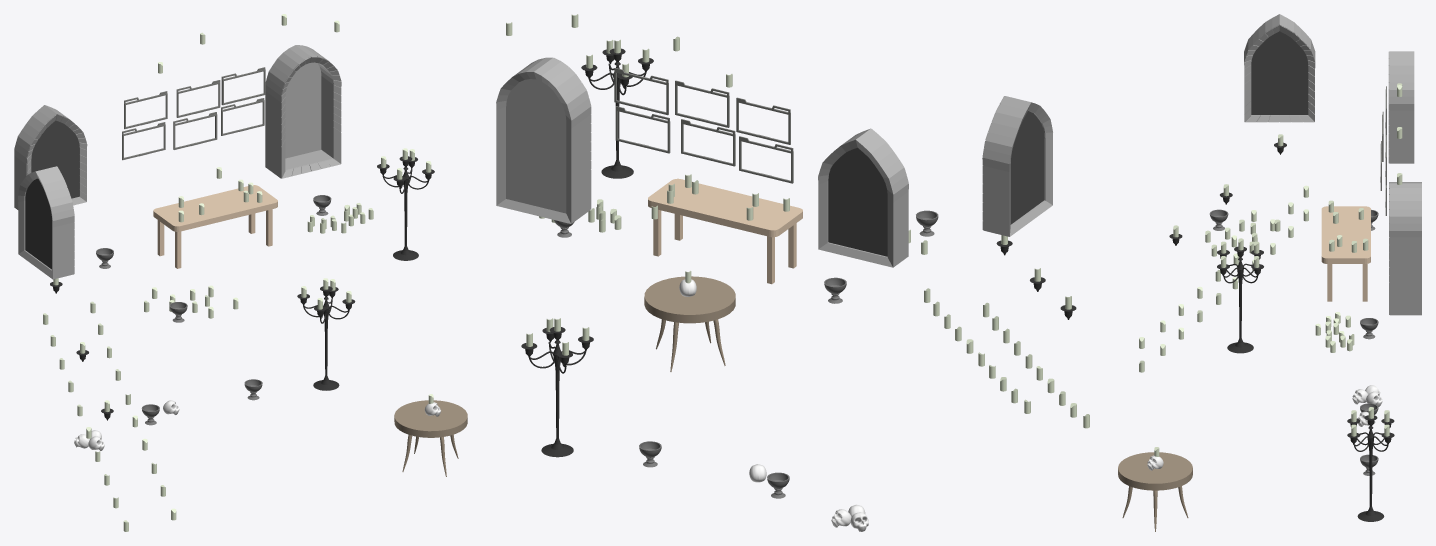
The model's file is items.glb.
The picture shows the model from 3 angles, left to right: view 1: azimuth 30°, elevation 25°; view 2: azimuth 150°, elevation 25°; view 3: azimuth 270°, elevation 25°; orthographic projection. The views are drawn at different scales.
Parts seen in each view (by area): view 1: WindowRock.003, WindowRock.001, DesktopBase, WindowRock.002, WindowCrystal01.002, TableBase, WindowCrystal01.003, CandelabraBase.001, CandelabraBase; view 2: WindowRock.003, WindowRock.001, WindowCrystal01.004, WindowRock.002, DesktopBase, TableBase, WindowCrystal01.003, CandelabraBase; view 3: WindowRock.003, WindowCrystal01.001, WindowRock.002, WindowRock.001, DesktopBase, TableBase, CandelabraBase, CandelabraBase.001.
Part boxes in pixels (box(x1,y1,x2,y2)): WindowRock.003: box(265, 45, 341, 178); WindowRock.001: box(18, 166, 74, 279); DesktopBase: box(153, 185, 277, 231); WindowRock.002: box(14, 105, 87, 209); WindowCrystal01.002: box(31, 120, 79, 198); TableBase: box(394, 400, 467, 437); WindowCrystal01.003: box(25, 178, 51, 269); CandelabraBase.001: box(393, 167, 418, 260); CandelabraBase: box(313, 297, 339, 390); WindowRock.003: box(496, 57, 591, 223); WindowRock.001: box(982, 96, 1052, 236); WindowCrystal01.004: box(828, 147, 887, 256); WindowRock.002: box(818, 128, 908, 267); DesktopBase: box(648, 178, 802, 237); TableBase: box(644, 276, 735, 323); WindowCrystal01.003: box(1010, 111, 1044, 224); CandelabraBase: box(541, 340, 573, 457); WindowRock.003: box(1389, 182, 1421, 315); WindowCrystal01.001: box(1251, 31, 1308, 114); WindowRock.002: box(1388, 51, 1414, 163); WindowRock.001: box(1244, 14, 1315, 122); DesktopBase: box(1321, 206, 1370, 263); TableBase: box(1118, 452, 1192, 490); CandelabraBase: box(1357, 426, 1384, 521); CandelabraBase.001: box(1227, 257, 1253, 353).
Bounding box in the file's own units: 17.72 × 16.94 × 12.32.
